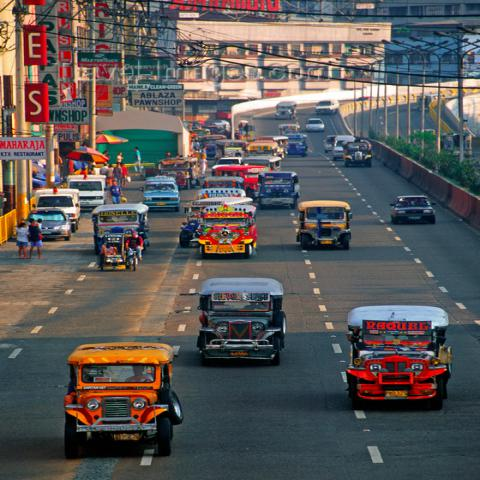car: (391, 193, 437, 227), (145, 175, 183, 214), (32, 212, 78, 239), (70, 175, 106, 209), (38, 189, 78, 216), (308, 118, 323, 130)
motorcycle: (95, 234, 146, 271)
truck: (64, 342, 179, 453), (350, 302, 451, 405), (198, 276, 285, 360), (203, 204, 256, 259), (301, 202, 356, 252), (96, 207, 147, 237), (263, 168, 300, 208), (342, 140, 374, 168), (288, 134, 309, 158), (275, 103, 296, 122)
